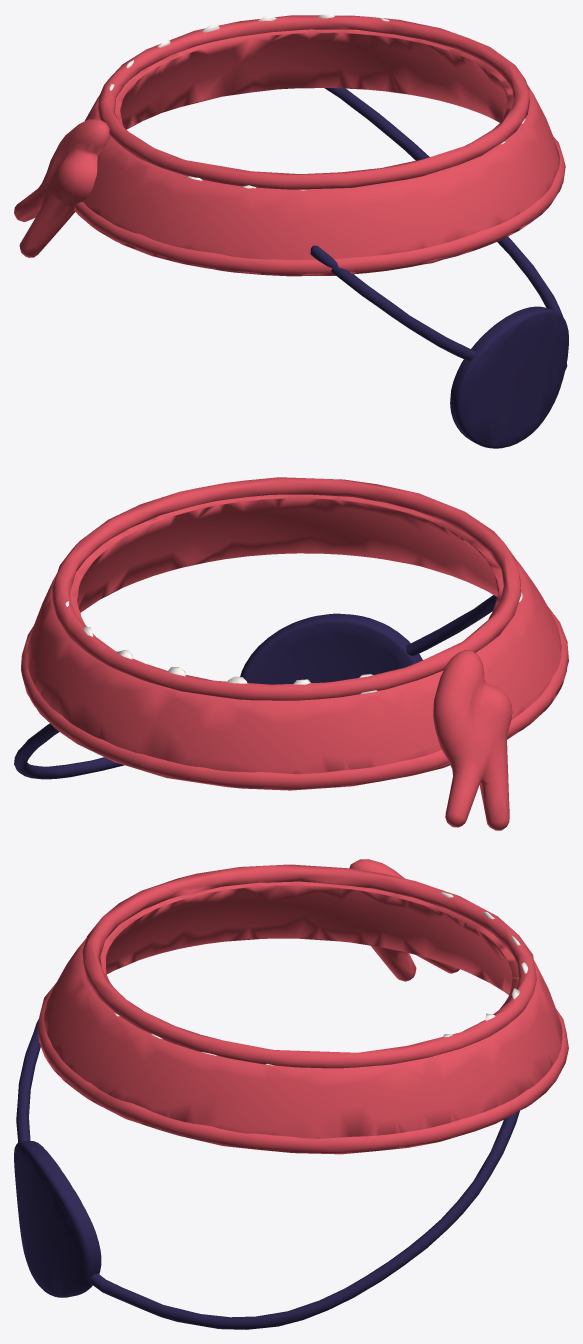
Rendered from face-pirate.glb.
The picture shows the model from 3 angles, top to bottom: view 1: azimuth 30°, elevation 25°; view 2: azimuth 150°, elevation 25°; view 3: azimuth 270°, elevation 25°; orthographic projection. The views are drawn at different scales.
Visible parts, largest first — view 1: face-pirate; view 2: face-pirate; view 3: face-pirate.
Boxes of the visible parts, x1=… form: face-pirate: x1=14, y1=14, x2=568, y2=448; face-pirate: x1=14, y1=477, x2=568, y2=830; face-pirate: x1=14, y1=859, x2=568, y2=1329.
Bounding box in the file's own units: 0.9056 × 0.523 × 0.8794.
